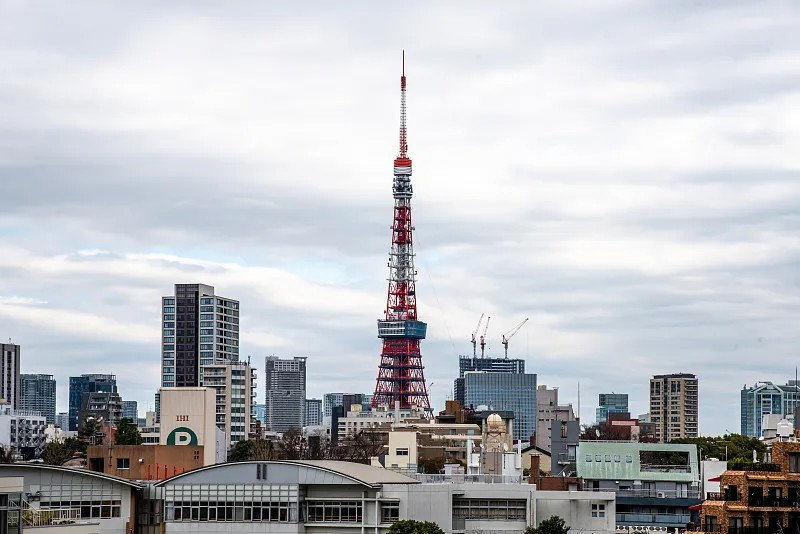Tokyo: (367, 48, 436, 419)
